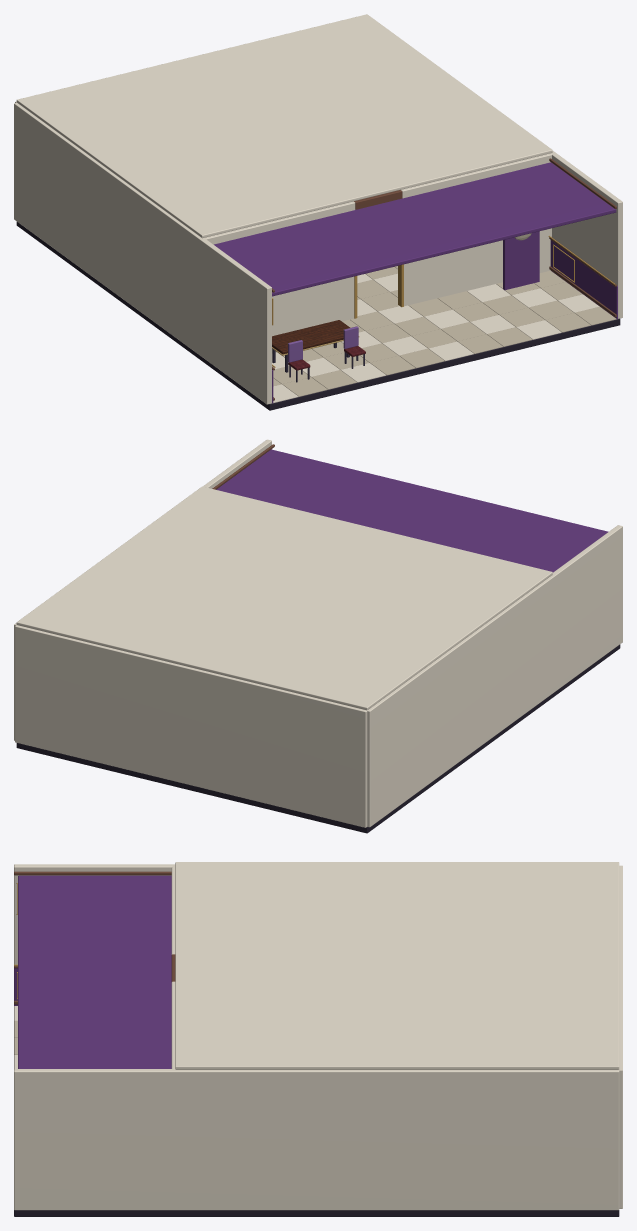
File: souvenir_shop.glb
3 views of the same model, one above another, from view 1: azimuth 30°, elevation 25°; view 2: azimuth 150°, elevation 25°; view 3: azimuth 270°, elevation 25° (orthographic). The views are drawn at different scales.
Visible parts, largest first — view 1: shop_interior_ceiling, structural_wall.007, shop_front_awning, shop_front_facade.001, shop_front_facade, structural_wall.008, floor.001, violet_wainscot.008, plain_forecourt_mascot_board, set_top.001; view 2: shop_interior_ceiling, structural_wall.006, structural_wall.007, shop_front_awning, floor.001, structural_wall.008; view 3: shop_interior_ceiling, structural_wall.008, shop_front_awning, floor.001, structural_wall.007, structural_wall.006, walnut_moulding.023.
Boxes of the visible parts, x1=… form: shop_interior_ceiling: x1=16, y1=14, x2=552, y2=238; structural_wall.007: x1=14, y1=103, x2=271, y2=404; shop_front_awning: x1=214, y1=162, x2=616, y2=296; shop_front_facade.001: x1=401, y1=153, x2=553, y2=306; shop_front_facade: x1=204, y1=201, x2=355, y2=336; structural_wall.008: x1=552, y1=151, x2=622, y2=318; floor.001: x1=16, y1=222, x2=620, y2=410; violet_wainscot.008: x1=550, y1=240, x2=617, y2=319; plain_forecourt_mascot_board: x1=503, y1=231, x2=539, y2=290; set_top.001: x1=272, y1=320, x2=350, y2=354; shop_interior_ceiling: x1=16, y1=486, x2=552, y2=710; structural_wall.006: x1=15, y1=625, x2=367, y2=827; structural_wall.007: x1=367, y1=525, x2=622, y2=827; shop_front_awning: x1=216, y1=449, x2=608, y2=572; floor.001: x1=16, y1=644, x2=620, y2=833; structural_wall.008: x1=14, y1=439, x2=271, y2=740; shop_interior_ceiling: x1=175, y1=862, x2=619, y2=1069; structural_wall.008: x1=14, y1=1069, x2=619, y2=1210; shop_front_awning: x1=18, y1=875, x2=171, y2=1068; floor.001: x1=14, y1=1006, x2=619, y2=1216; structural_wall.007: x1=14, y1=864, x2=175, y2=964; structural_wall.006: x1=619, y1=865, x2=622, y2=1208; walnut_moulding.023: x1=14, y1=871, x2=171, y2=875.
Bounding box in the file's own units: 12.18 × 4.12 × 15.09.
Materials: 21 (3 with a texture image).
